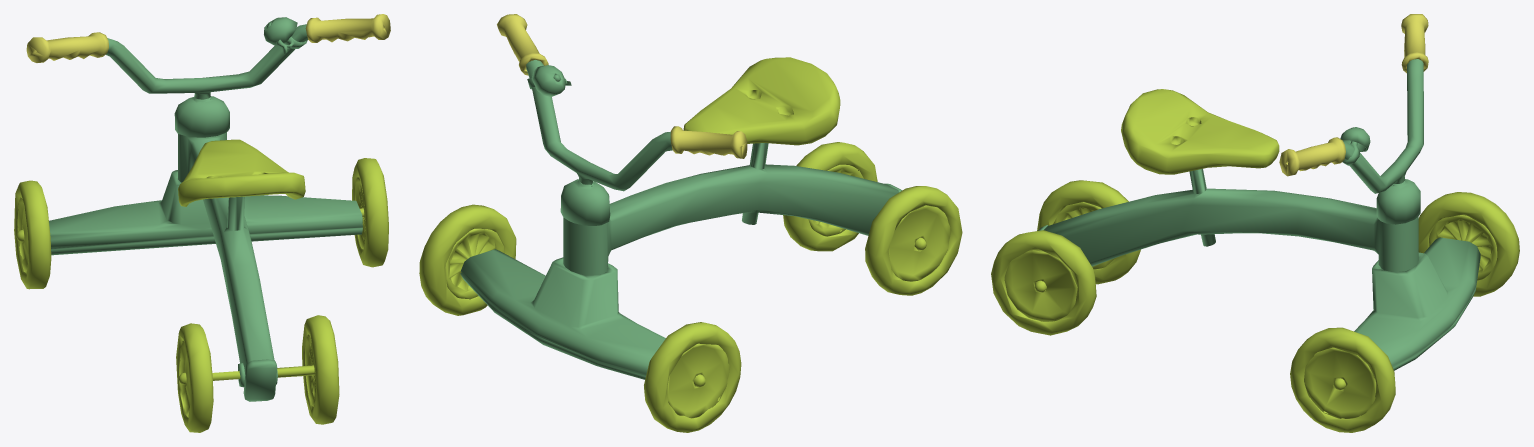
The model's file is triciclo_LODs.fbx.
The picture shows the model from 3 angles, left to right: view 1: azimuth 30°, elevation 25°; view 2: azimuth 150°, elevation 25°; view 3: azimuth 270°, elevation 25°; orthographic projection. The views are drawn at different scales.
Visible parts, largest first — view 1: triciclo_LOD0; view 2: triciclo_LOD0; view 3: triciclo_LOD0.
Boxes of the visible parts, box(x1,y1,x2,y2) form: triciclo_LOD0: box(14, 14, 390, 432); triciclo_LOD0: box(419, 14, 962, 432); triciclo_LOD0: box(991, 14, 1519, 432).
Size of what is drawn, in the model's own units: 332 by 245 by 433.
